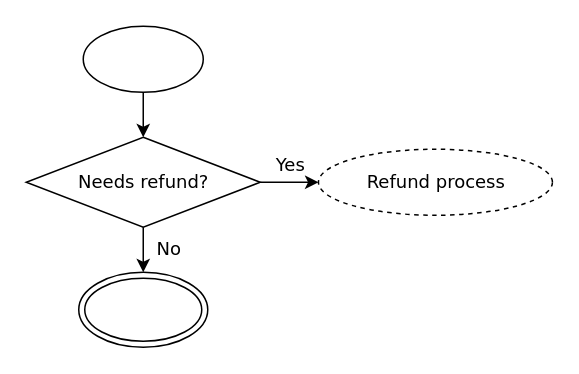
Image size: 579x374. Some labels were removed from this diagram. Here are the shapes that lost their labels. From the top down, the box of each, then its label:
(82, 25, 203, 92): Enter
(77, 271, 208, 347): Finish
